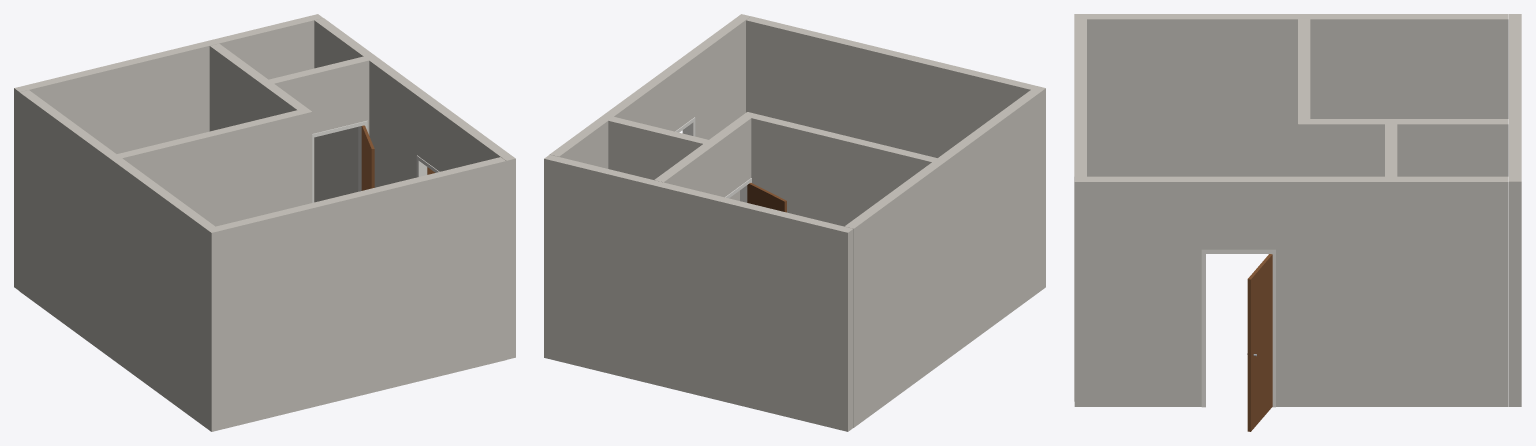
The model's file is one room house.glb.
3 views of the same model, side by side, from view 1: azimuth 30°, elevation 25°; view 2: azimuth 150°, elevation 25°; view 3: azimuth 270°, elevation 25° (orthographic). The views are drawn at different scales.
Parts seen in each view (by area): view 1: Ground Floor; view 2: Ground Floor; view 3: Ground Floor.
Boxes of the visible parts, x1=… form: Ground Floor: x1=14, y1=14, x2=515, y2=431; Ground Floor: x1=544, y1=14, x2=1045, y2=431; Ground Floor: x1=1074, y1=14, x2=1521, y2=431.
Size of the model in its own units: 5.62 by 3.05 by 5.49.
